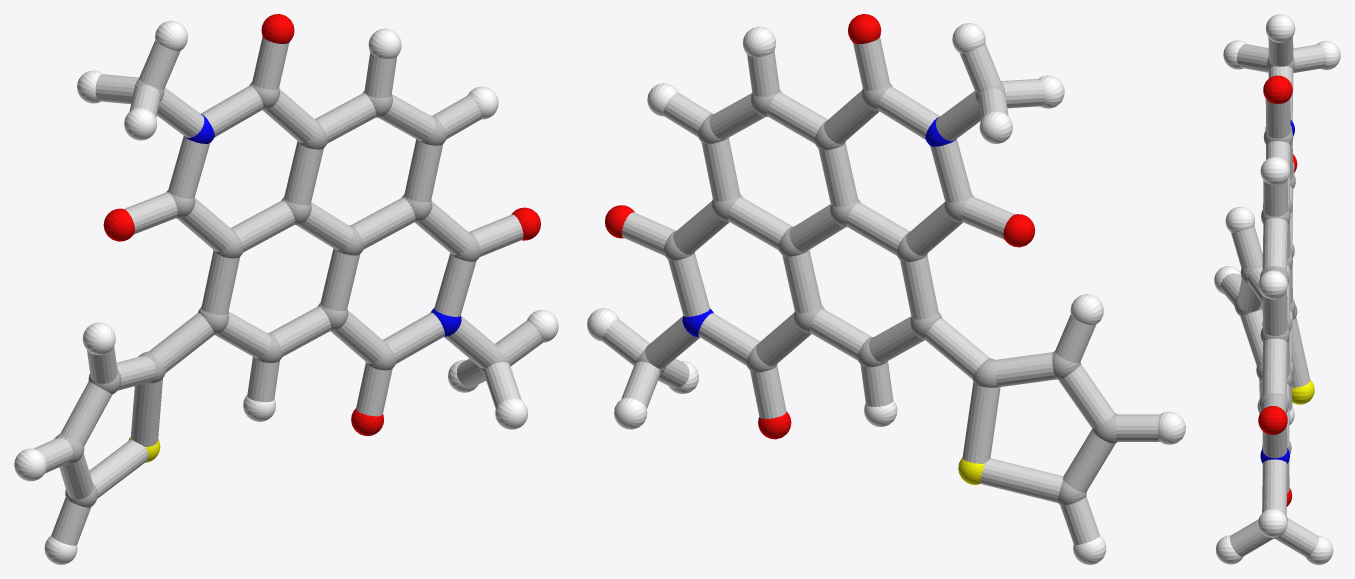
Rendered from Dimethyl_Naphthalene_Dicarboximide_Phi_15_Theta_340_Thiophene.glb.
3 views of the same model, side by side, from view 1: azimuth 30°, elevation 25°; view 2: azimuth 150°, elevation 25°; view 3: azimuth 270°, elevation 25° (orthographic). The views are drawn at different scales.
Visible parts, largest first — view 1: grp14119, grp7241, grp1, grp12309, grp11585; view 2: grp14119, grp7241, grp1, grp12309, grp11585; view 3: grp14119, grp7241, grp1, grp12309, grp13757, grp11585.
Part boxes in pixels (x1=…): grp14119: x1=34, y1=37, x2=543, y2=545; grp7241: x1=14, y1=20, x2=558, y2=564; grp1: x1=54, y1=79, x2=508, y2=507; grp12309: x1=103, y1=14, x2=540, y2=435; grp11585: x1=184, y1=114, x2=461, y2=336; grp14119: x1=602, y1=37, x2=1159, y2=544; grp7241: x1=587, y1=23, x2=1185, y2=564; grp1: x1=635, y1=82, x2=1117, y2=505; grp12309: x1=605, y1=14, x2=1035, y2=439; grp11585: x1=682, y1=116, x2=955, y2=336; grp14119: x1=1220, y1=37, x2=1326, y2=556; grp7241: x1=1214, y1=14, x2=1340, y2=564; grp1: x1=1234, y1=56, x2=1297, y2=538; grp12309: x1=1258, y1=75, x2=1297, y2=506; grp13757: x1=1292, y1=380, x2=1314, y2=404; grp11585: x1=1260, y1=120, x2=1294, y2=463.
Bounding box in the file's own units: 11.83 × 10.2 × 2.57.
